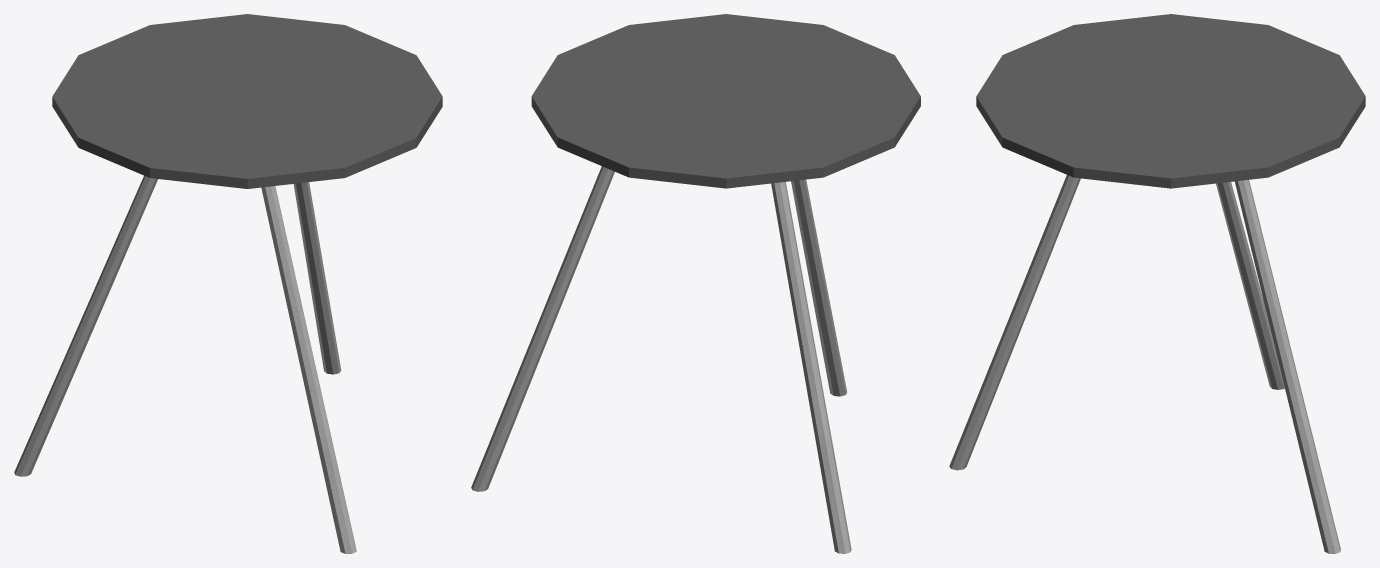
The model's file is Stove stand.fbx.
The picture shows the model from 3 angles, left to right: view 1: azimuth 30°, elevation 25°; view 2: azimuth 150°, elevation 25°; view 3: azimuth 270°, elevation 25°; orthographic projection.
Parts seen in each view (by area): view 1: polySurface49; view 2: polySurface49; view 3: polySurface49.
Boxes of the visible parts, x1,y1,x2,y2 form: polySurface49: (14,14,442,553); polySurface49: (471,14,920,553); polySurface49: (949,14,1365,553).
Bounding box in the file's own units: 19.72 × 20.04 × 20.26.
2 materials, 1 textured.
